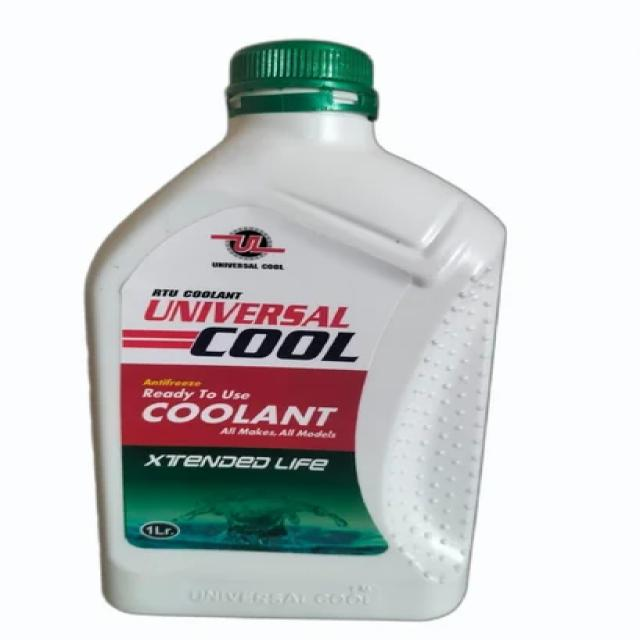coolant: (73, 33, 521, 626)
